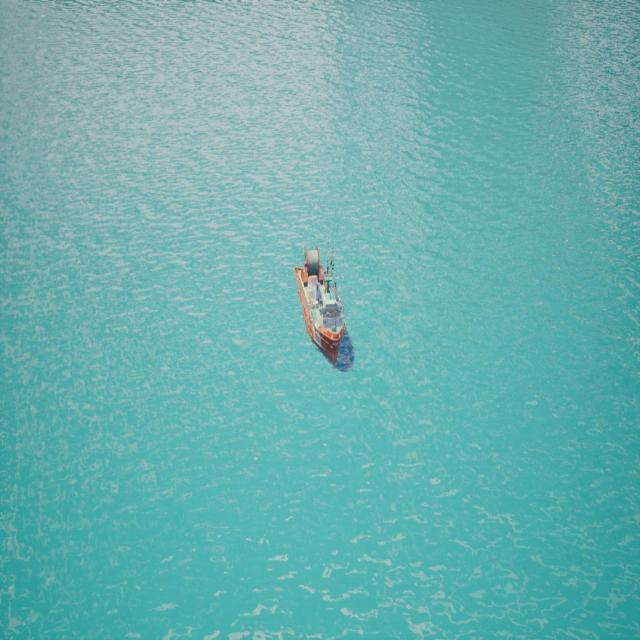tug boat: (288, 227, 355, 366)
